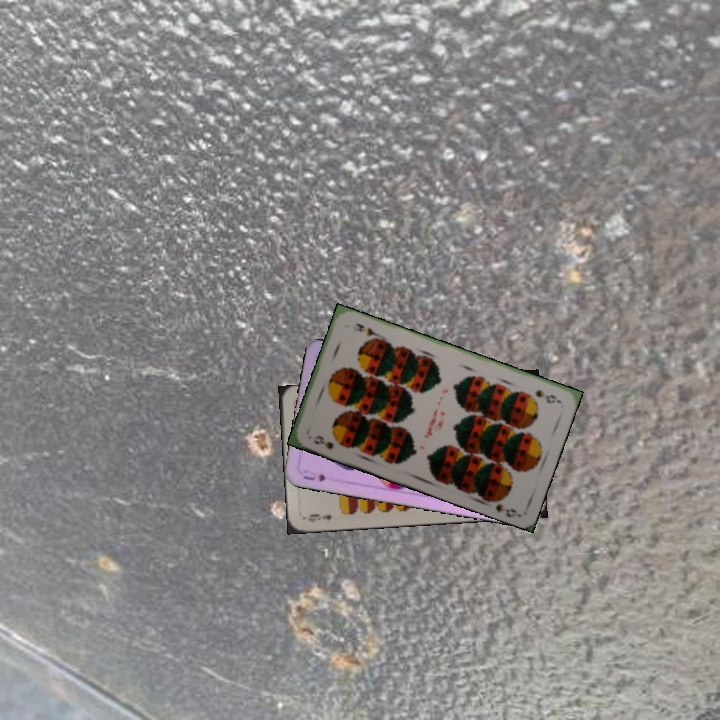E9: (304, 510, 334, 525)
S9: (310, 431, 345, 452), (531, 386, 562, 406)
SU: (299, 466, 328, 484)
